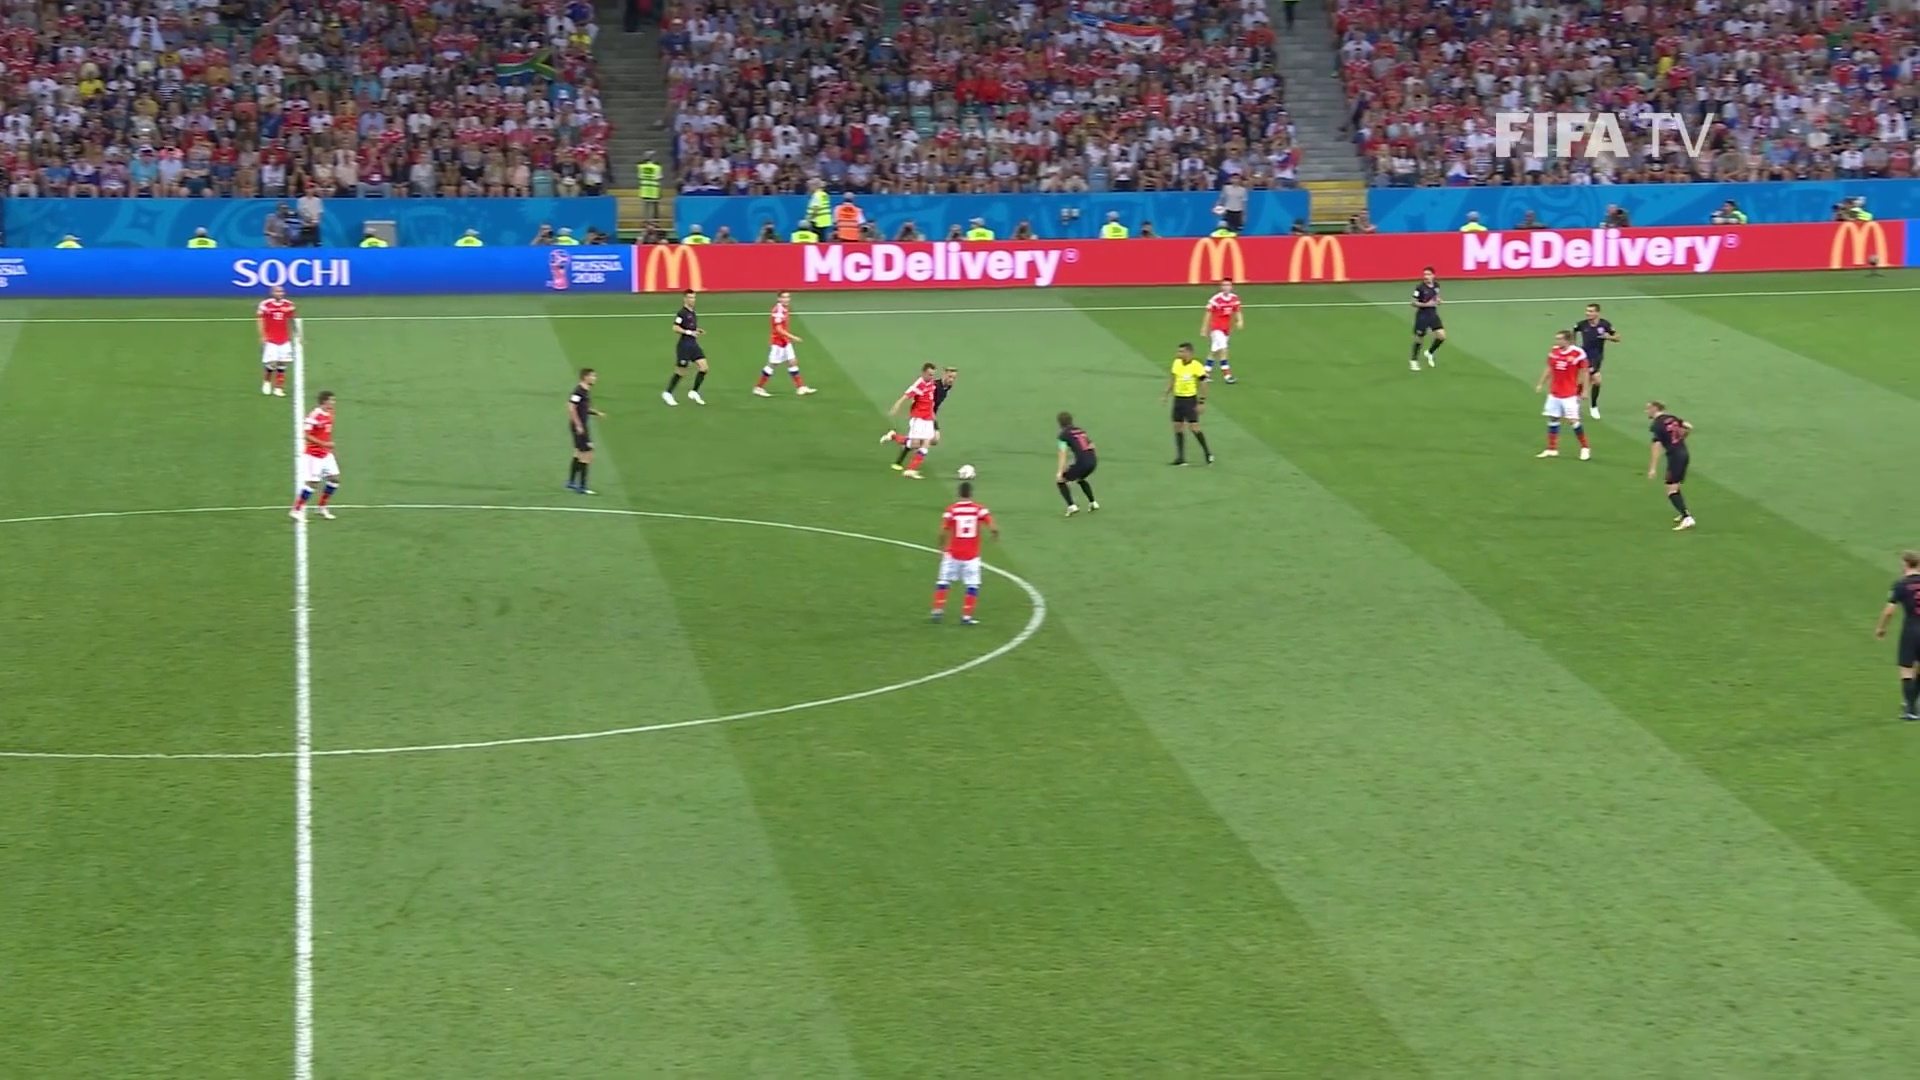ball: (957, 464, 973, 480)
person: (932, 483, 990, 625), (1643, 400, 1699, 533), (1539, 331, 1592, 461), (1885, 551, 1920, 725), (754, 290, 811, 396), (883, 362, 935, 478), (293, 391, 337, 518), (1051, 413, 1101, 520), (665, 289, 703, 407), (257, 287, 298, 396), (1572, 307, 1612, 418), (565, 365, 598, 496), (1202, 279, 1241, 382), (1407, 270, 1444, 367), (933, 363, 955, 413)
